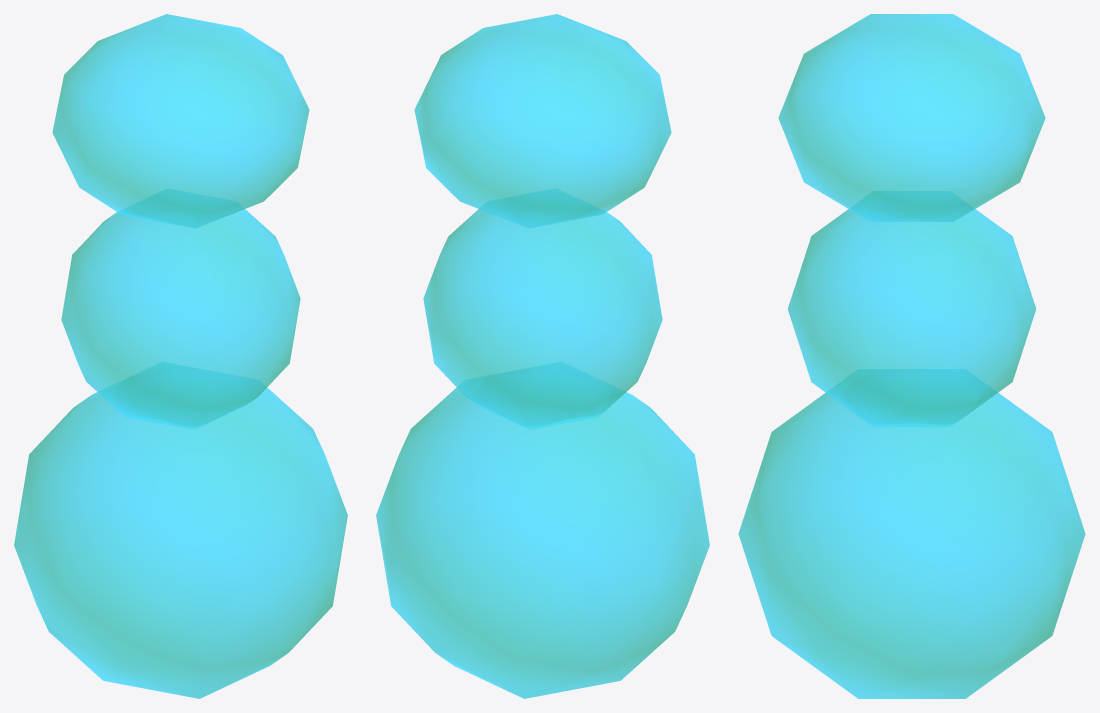
Rendered from enemy_blue_avatar.glb.
3 views of the same model, side by side, from view 1: azimuth 30°, elevation 25°; view 2: azimuth 150°, elevation 25°; view 3: azimuth 270°, elevation 25° (orthographic).
Visible parts, largest first — view 1: blue_snowman; view 2: blue_snowman; view 3: blue_snowman.
Part boxes in pixels (x1,y1,x2,y2): blue_snowman: (14, 14, 347, 698); blue_snowman: (376, 14, 709, 698); blue_snowman: (738, 14, 1085, 698).
Bounding box in the file's own units: 0.7671 × 1.71 × 0.8066.
